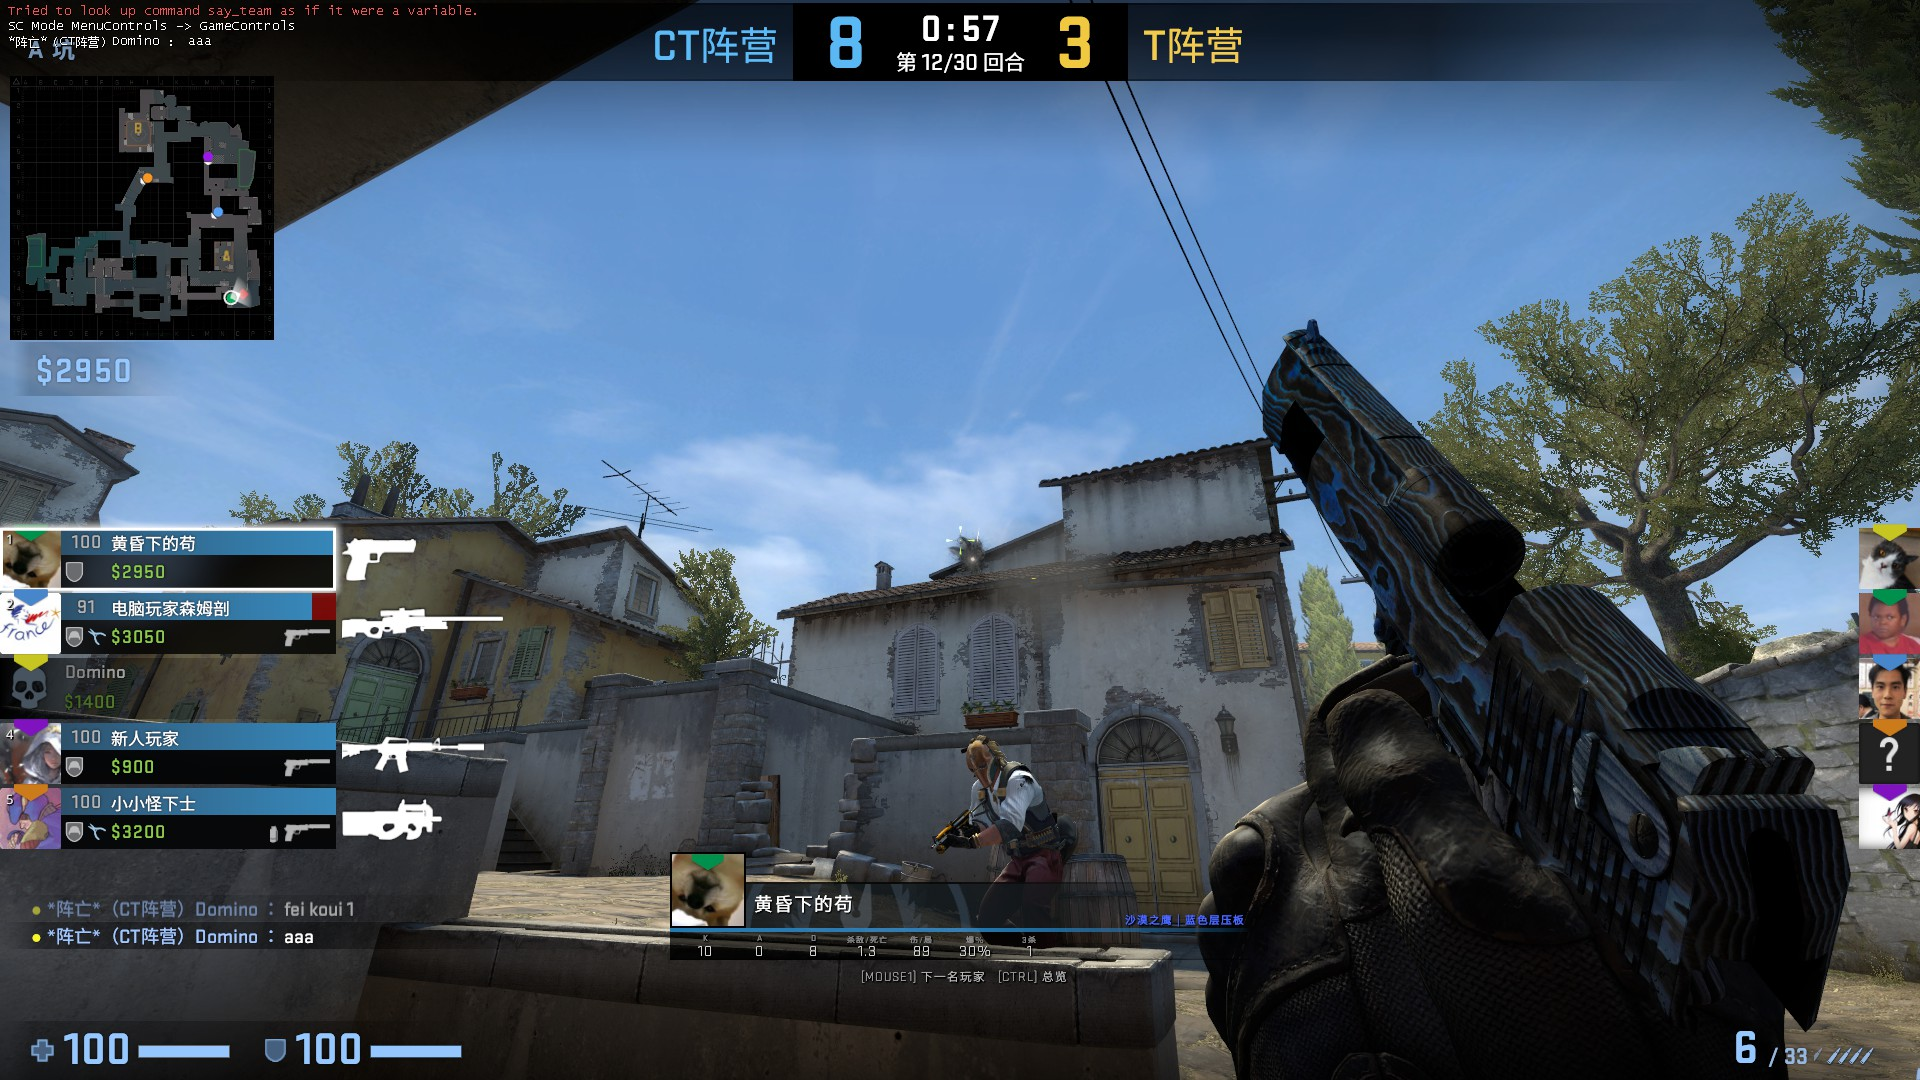head: (958, 735, 1006, 789)
